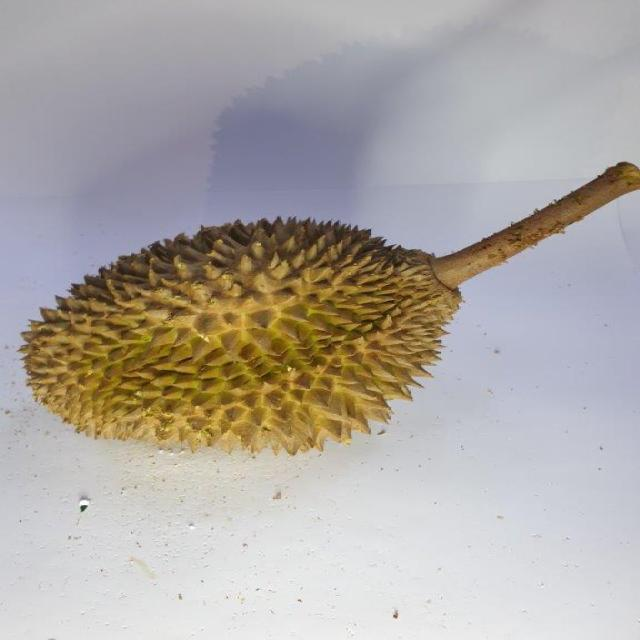mature: (19, 217, 467, 463)
